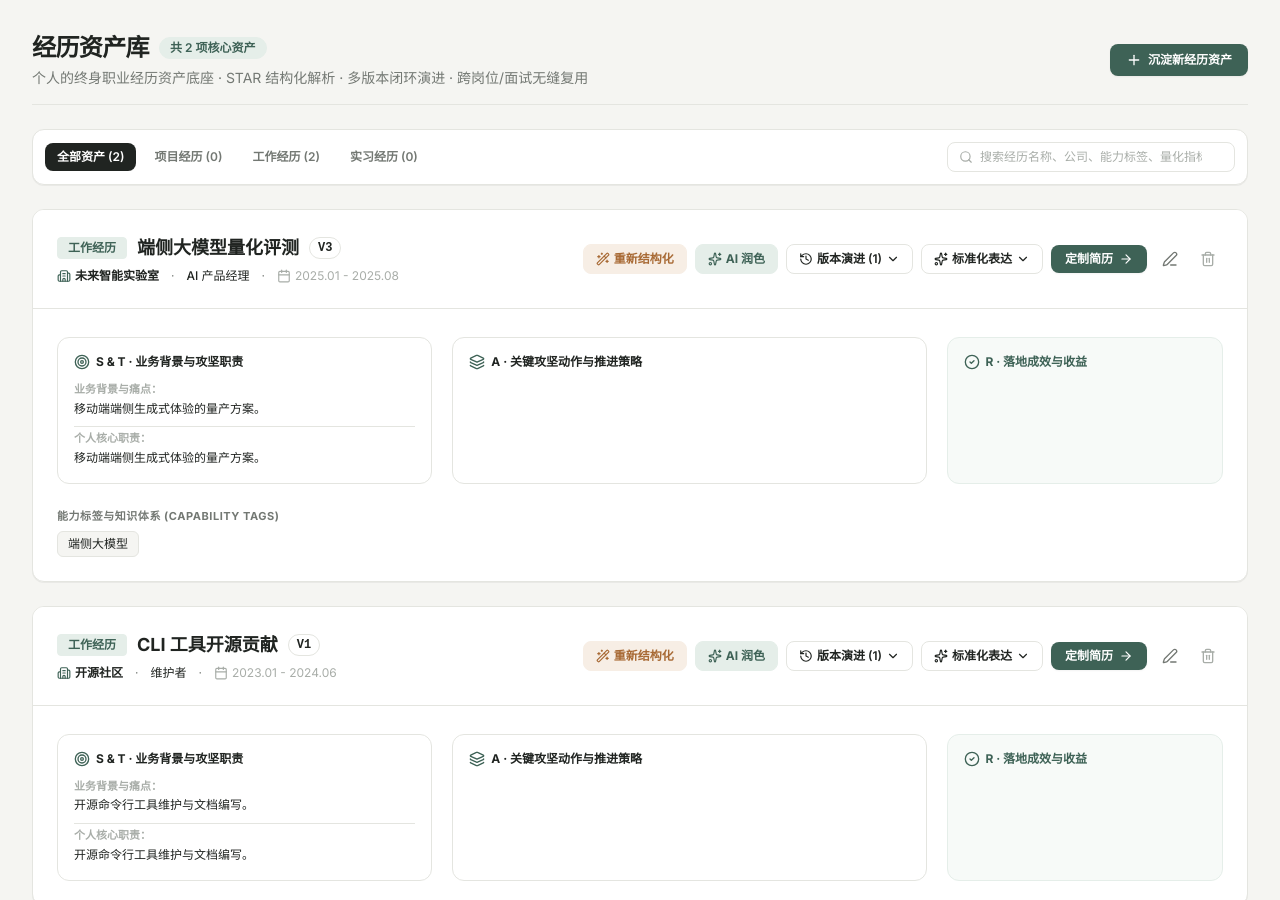
Scenario: T-M1-2 版本明细懒加载（N+1→1） › FE-JDVER-01：jd 快照标 JD 不抢「当前激活版本」徽标，「累计迭代」只数非 jd 版本
Expected: the heading "端侧大模型量化评测" is shown, [137,234,299,262]
Click the button "版本演进 (1)" in the row of "2025.01 - 2025.08": (849, 259) [786,244,913,274]
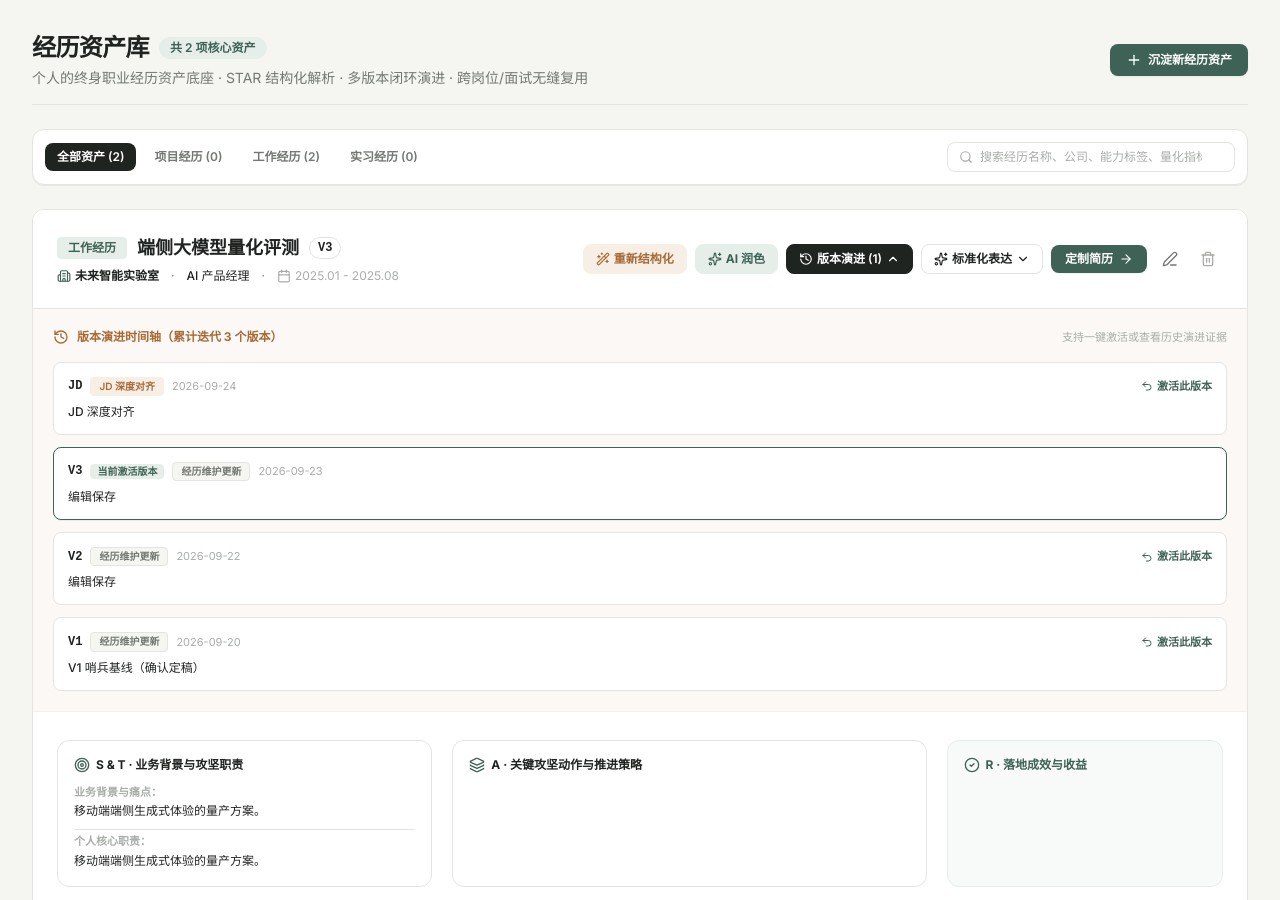
Expected: the text "版本演进时间轴（累计迭代 3 个版本）" is shown, [77,329,282,345]
Expected: the text "当前激活版本" is shown once, [90,464,164,479]
